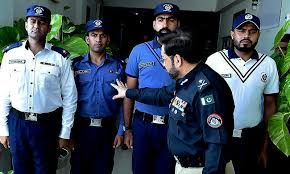uniform: (1, 36, 71, 163), (162, 53, 231, 165), (69, 46, 120, 161)
